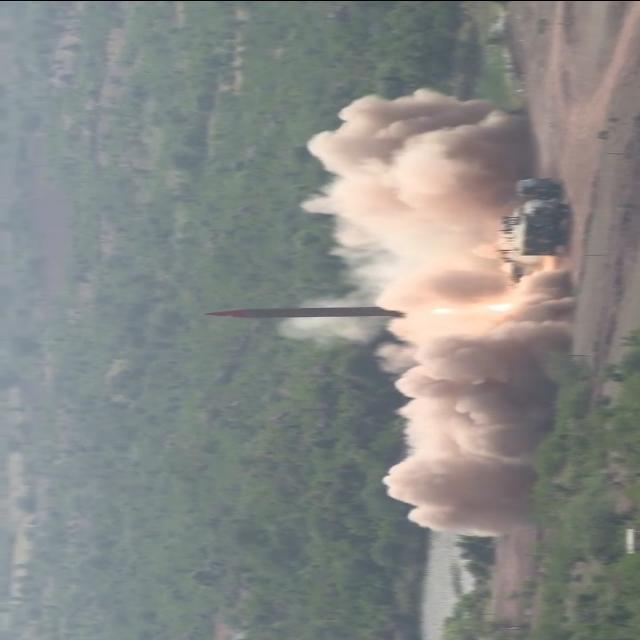missile: (205, 304, 402, 320)
